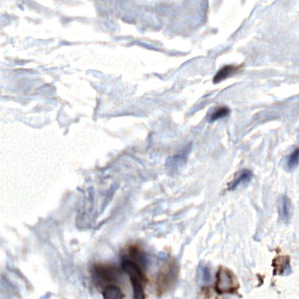Lymphocyte: (271, 253, 292, 278)
